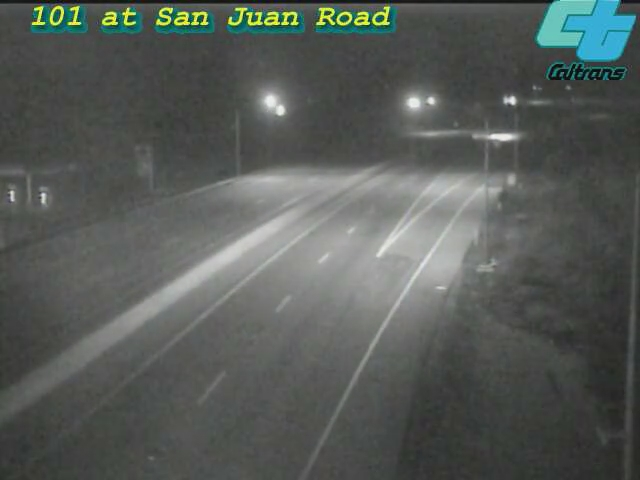vehicle: (477, 112, 527, 162)
